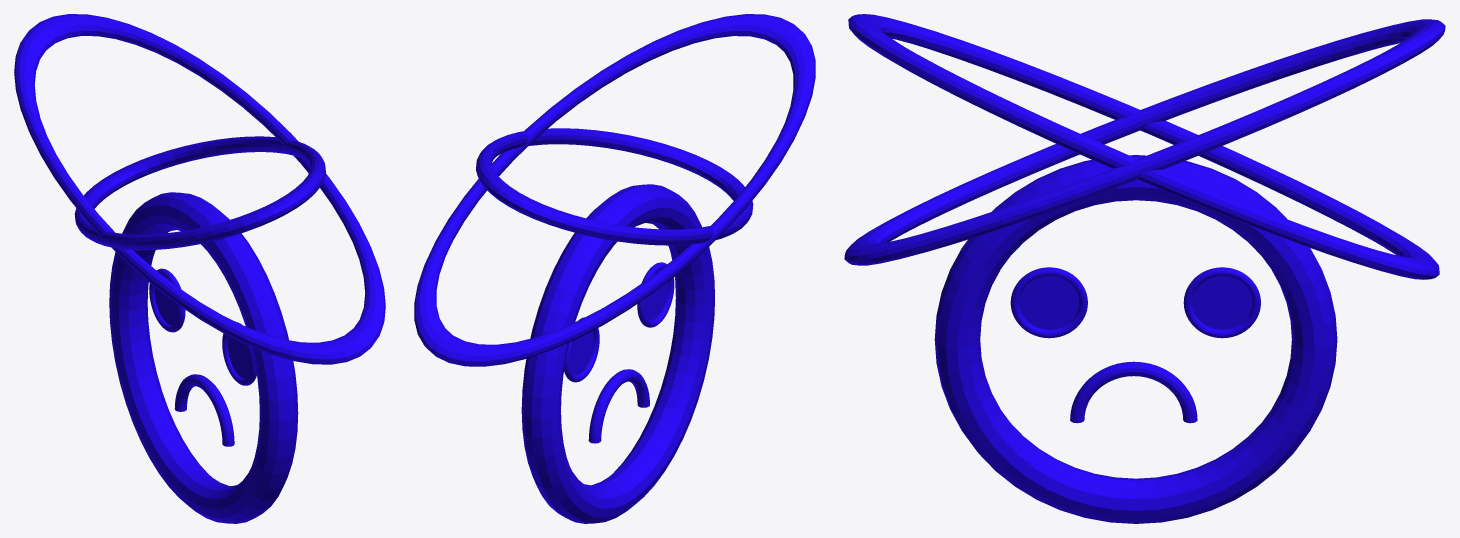
The model's file is neon confussion.fbx.
3 renders of one model, left to right at view 1: azimuth 30°, elevation 25°; view 2: azimuth 150°, elevation 25°; view 3: azimuth 270°, elevation 25°, orthographic. The views are drawn at different scales.
Visible parts, largest first — view 1: Torus.001; view 2: Torus.001; view 3: Torus.001.
Boxes of the visible parts, <box> form: Torus.001: <box>14,14,385,523</box>; Torus.001: <box>414,14,815,523</box>; Torus.001: <box>844,14,1445,523</box>.
Bounding box in the file's own units: 144 × 261 × 293.
